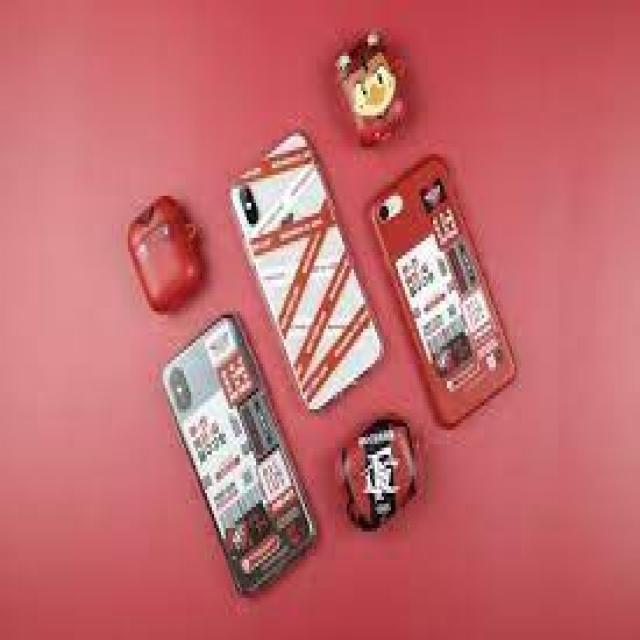phone: (158, 308, 316, 604), (236, 134, 390, 404), (375, 150, 520, 426)
